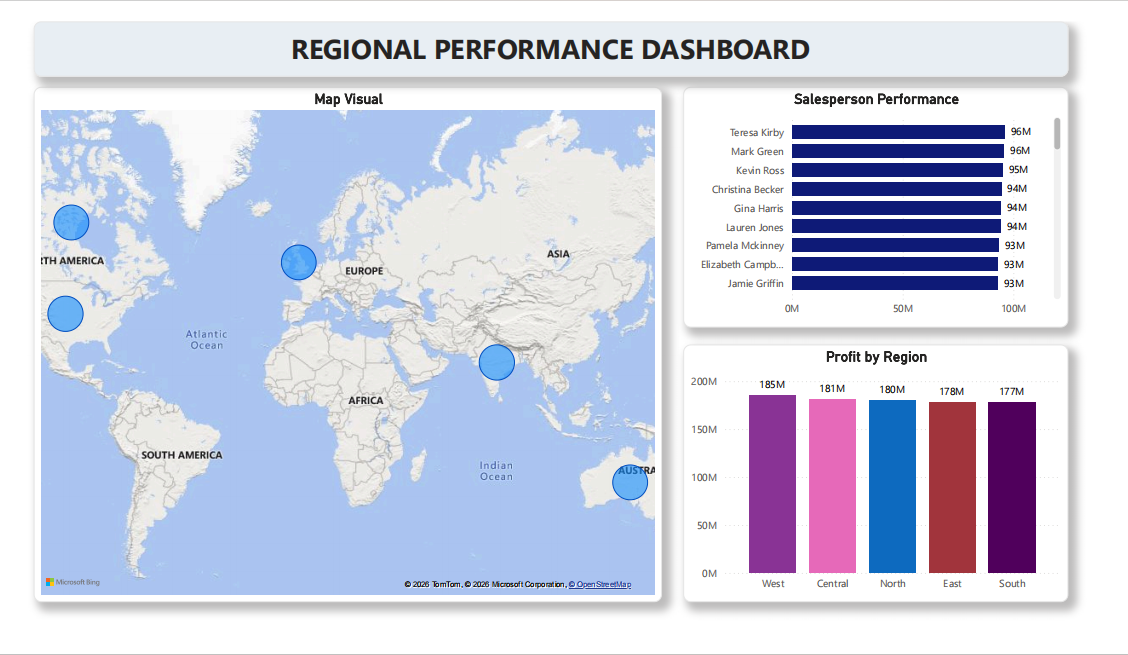

This screenshot's page, from the dashboard's own definition file:
{"tool":"powerbi","page":{"name":"Regional Performance","canvas":[1280,720],"ordinal":1},"visuals":[{"type":"map","title":"Map Visual","fields":{"Size":["Sum(big_sales_dataset_100k.Net_Sales)"],"Category":["big_sales_dataset_100k.Country"]},"box":[18.2,24.8,738.8,659.3],"z":0},{"type":"columnChart","title":"Profit by Region","fields":{"Category":["big_sales_dataset_100k.Region"],"Y":["Sum(big_sales_dataset_100k.Profit)"]},"box":[781.9,359.5,453.9,324.7],"z":1000},{"type":"barChart","title":"Salesperson Performance","fields":{"Category":["big_sales_dataset_100k.Salesperson"],"Y":["Sum(big_sales_dataset_100k.Net_Sales)"]},"box":[781.9,24.8,453.9,318],"z":2000}]}

Visuals, with their boxes on the page's 1280x720 design canvas (x1, y1, x2, y2). These are canvas units, not pixel positions in the 1128x655 screenshot, which may show the page scaled, cropped or inside an application window:
"Map Visual" map: 18/25/757/684
"Profit by Region" columnChart: 782/360/1236/684
"Salesperson Performance" barChart: 782/25/1236/343
